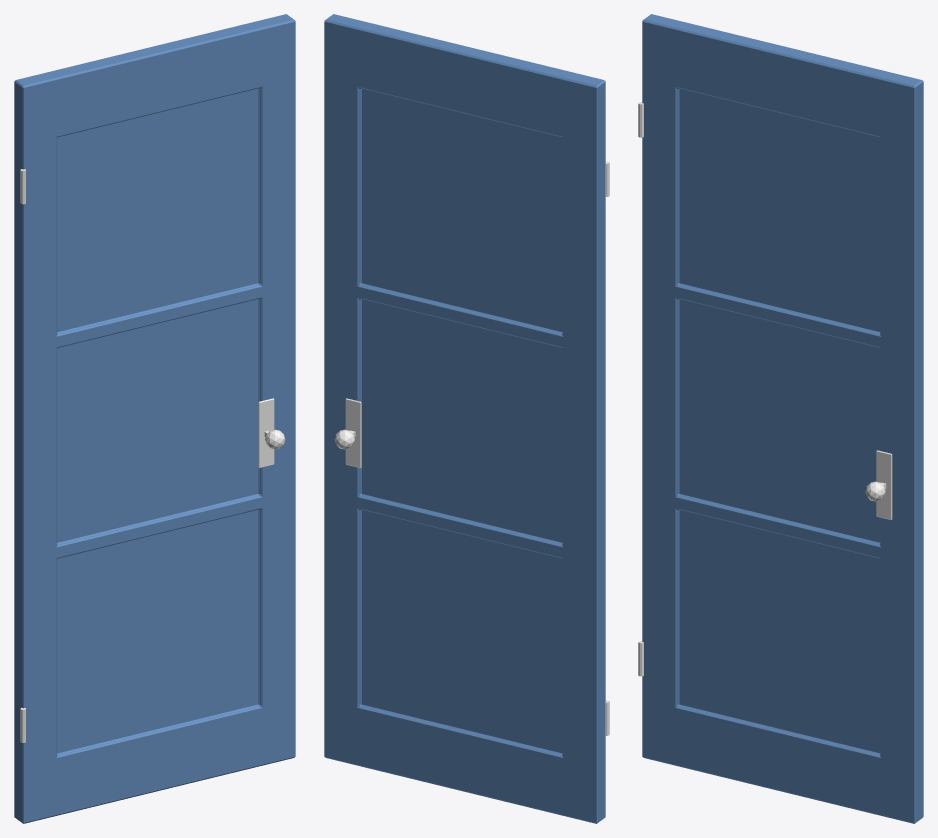
The model's file is door_leaf_service.glb.
3 renders of one model, left to right at view 1: azimuth 30°, elevation 25°; view 2: azimuth 150°, elevation 25°; view 3: azimuth 330°, elevation 25°, orthographic.
Visible parts, largest first — view 1: door_leaf_service_door, door_leaf_service_metal; view 2: door_leaf_service_door, door_leaf_service_metal; view 3: door_leaf_service_door, door_leaf_service_metal.
Boxes of the visible parts, box(x1,y1,x2,y2) form: door_leaf_service_door: box(14, 14, 295, 823); door_leaf_service_metal: box(20, 169, 285, 742); door_leaf_service_door: box(324, 14, 605, 823); door_leaf_service_metal: box(334, 161, 609, 735); door_leaf_service_door: box(642, 14, 923, 823); door_leaf_service_metal: box(638, 102, 892, 676).
Bounding box in the file's own units: 0.868 × 2.22 × 0.206.
